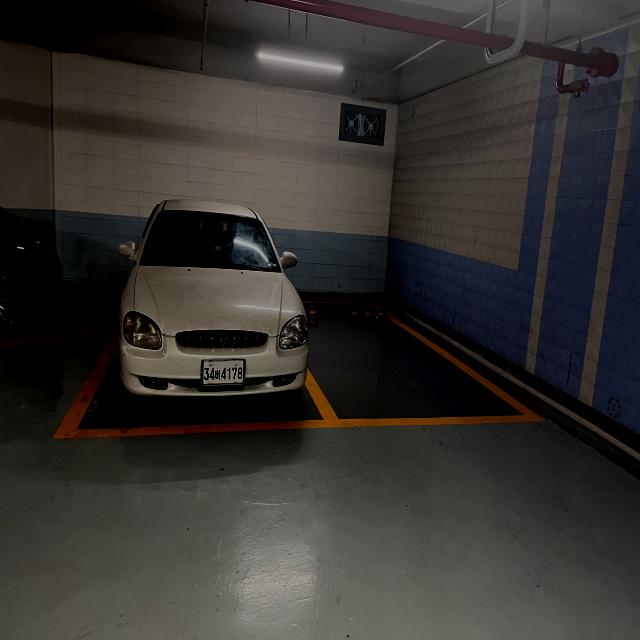empty: (302, 306, 560, 432)
occupied: (121, 183, 320, 435)
